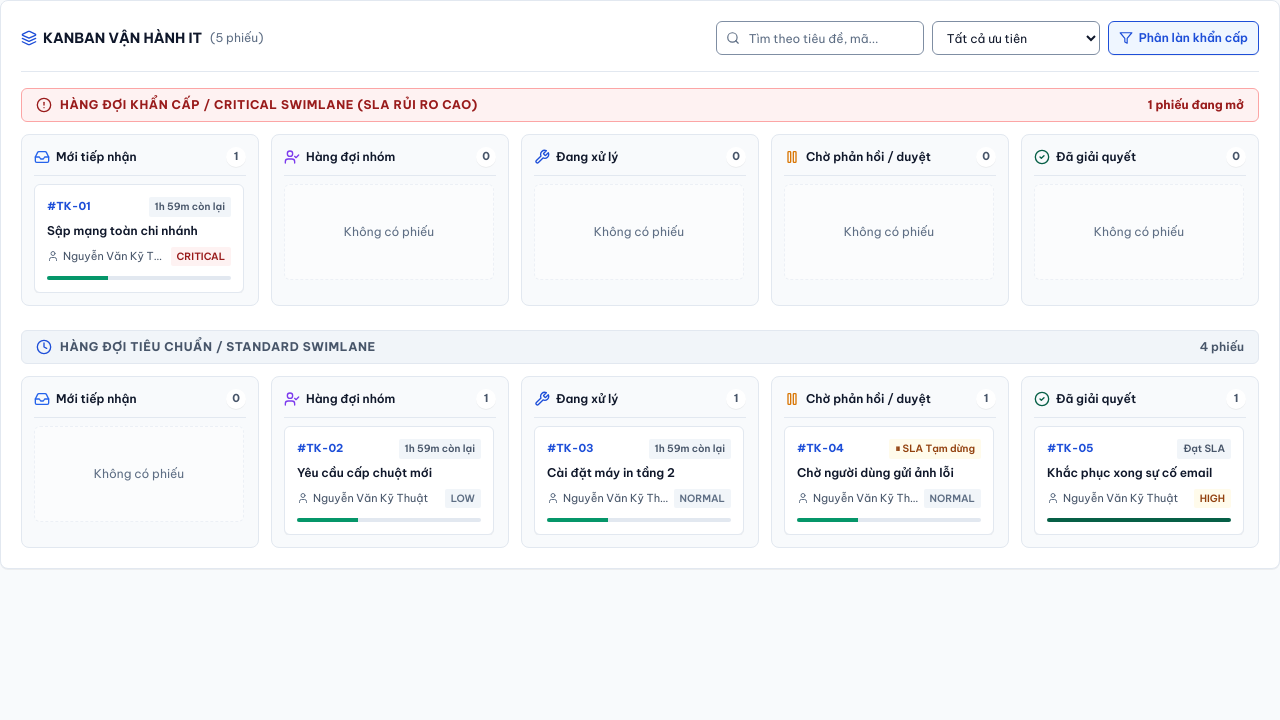
Test: TicketKanbanBoard (Model 3) › filters cards by search query
The image size is (1280, 720).
Type "máy in" into the field with placeholder "Tìm theo tiêu đề, mã..." at x=820, y=38, box [716,21,924,55]
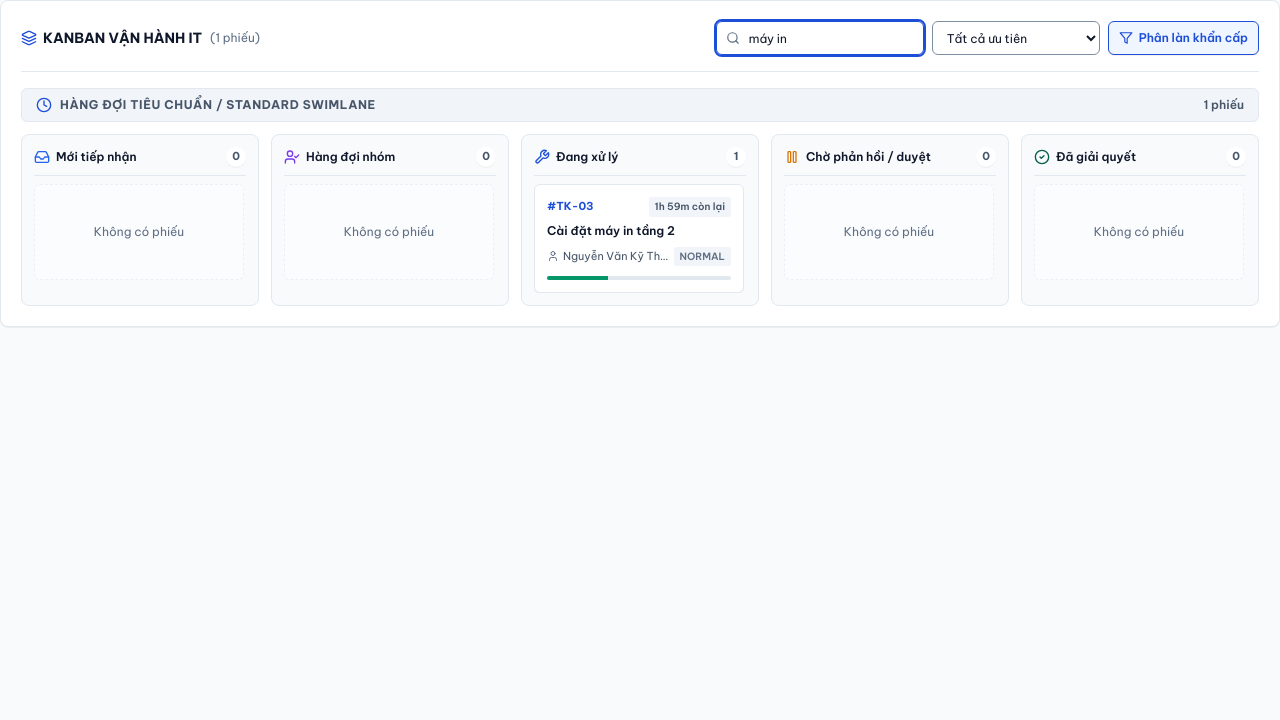
Check: the heading "Cài đặt máy in tầng 2" is shown, box [547,222,675,238]
Check: the heading "Sập mạng toàn chi nhánh" is gone
